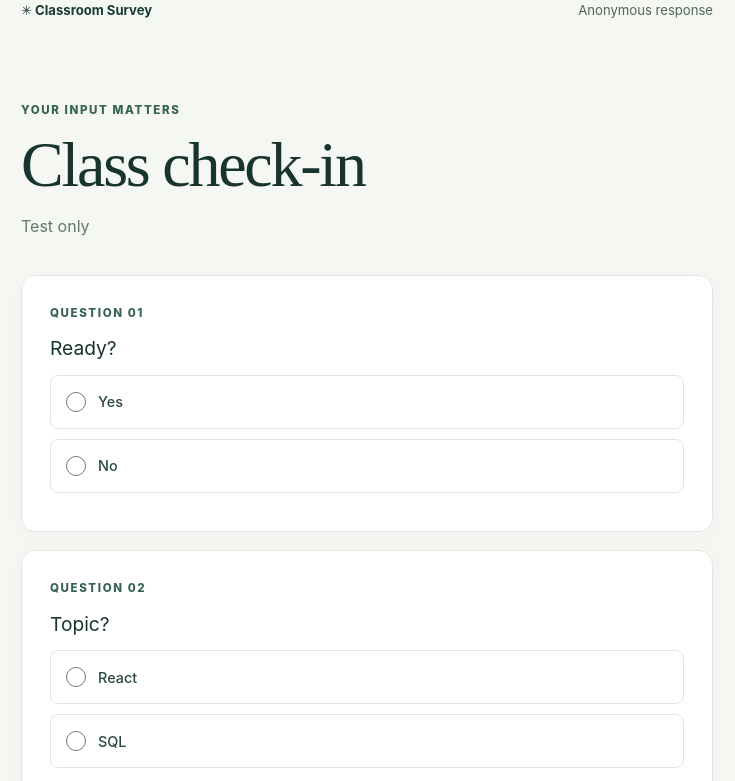
student survey › retains a partial answer so the student can finish after validation
The image size is (735, 781).
Click the radio button labelled "Yes": [76, 402] box [66, 392, 86, 412]
(page scrolled)
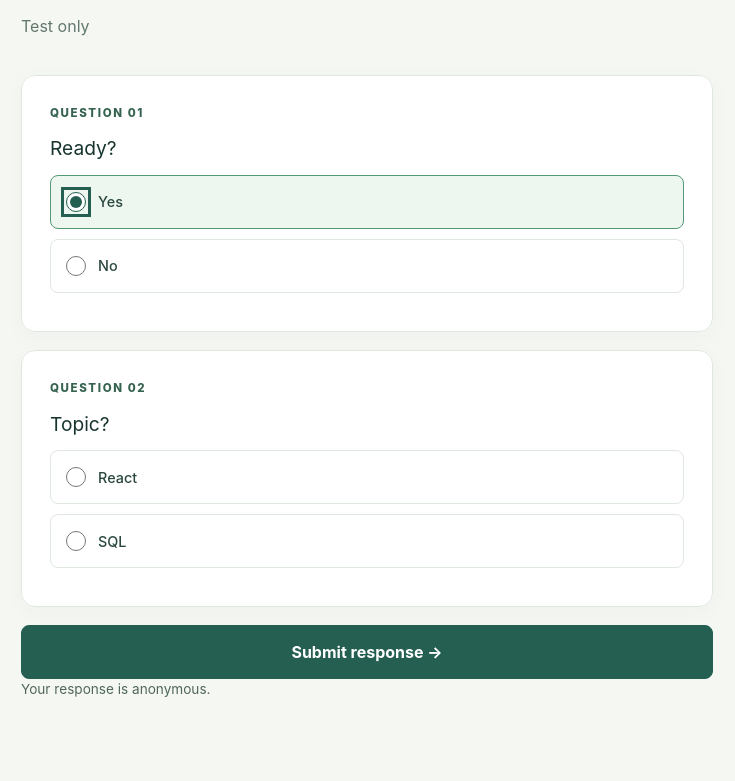
Click the button "Submit response →": [367, 652] box [21, 625, 713, 679]
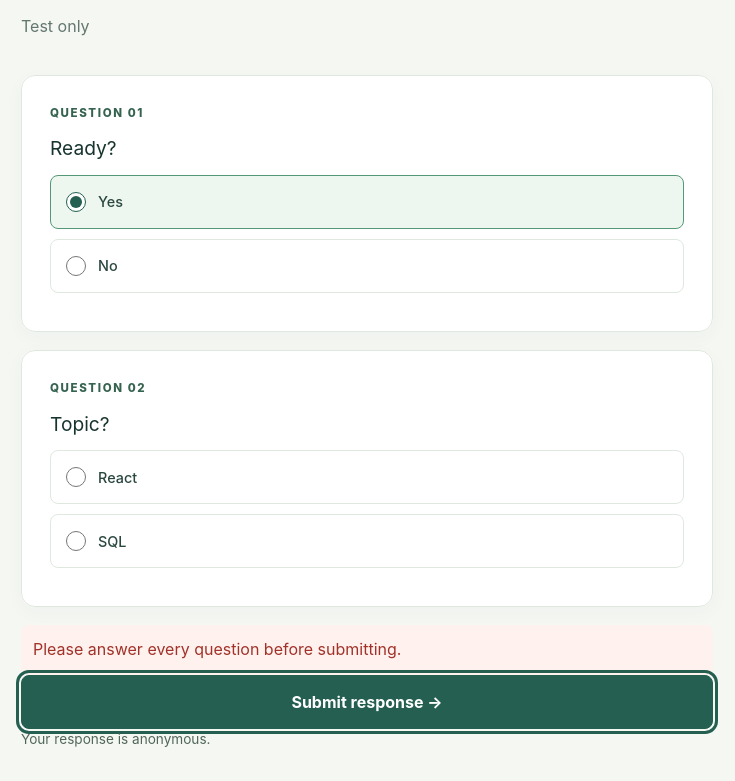
Result: the radio button labelled "Yes" is checked at [66, 192, 86, 212]
Result: the message shows "answer every question" at [33, 639, 401, 659]
Click the radio button labelled "SQL": [76, 541] box [66, 531, 86, 551]
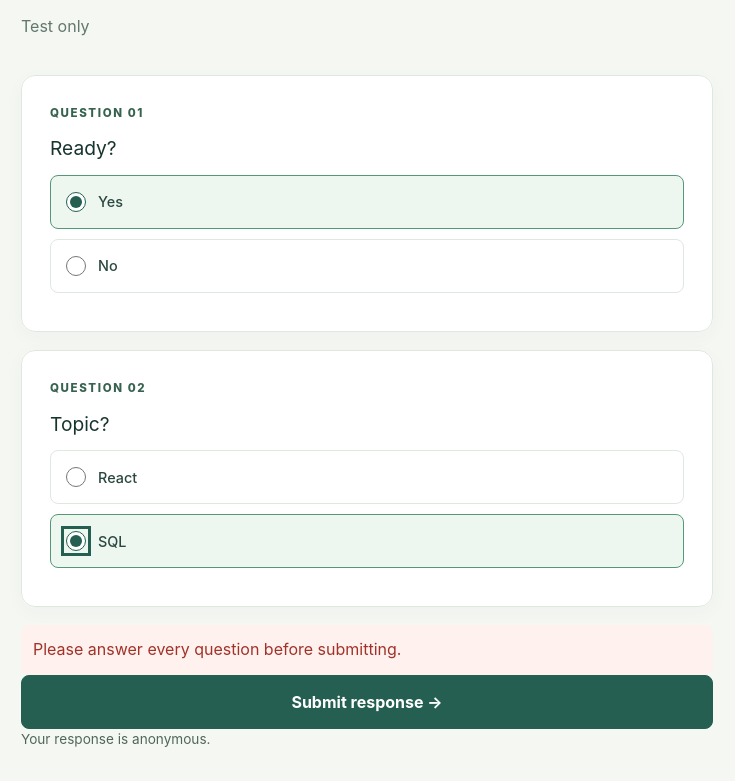
Click the button "Submit response →": [367, 702] box [21, 675, 713, 729]
(page scrolled)
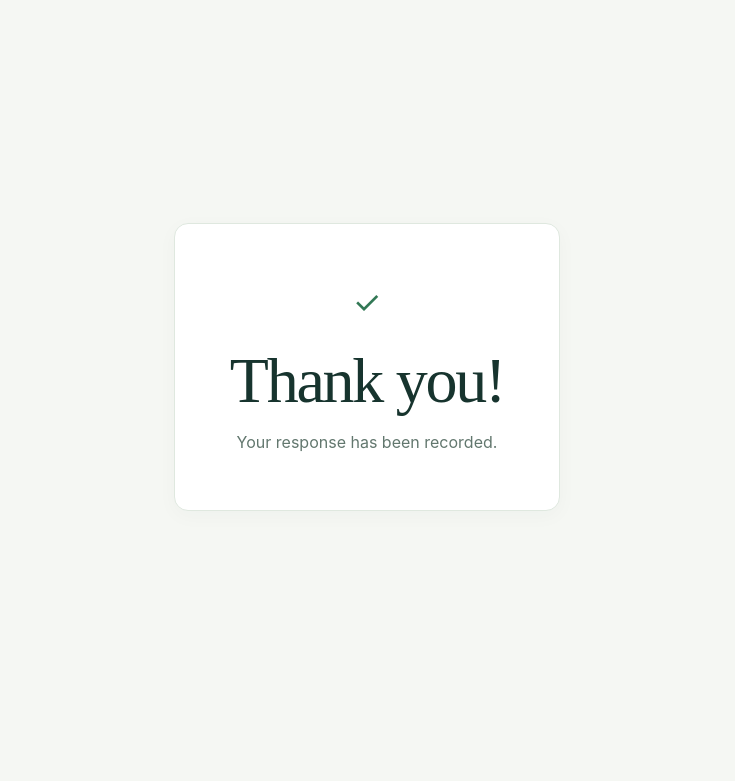
Result: the heading "Thank you!" is shown at [230, 347, 504, 414]
